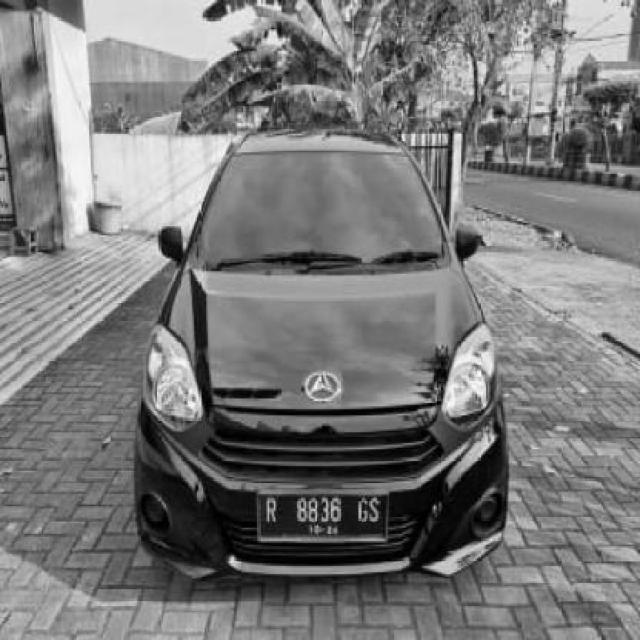3: (321, 497, 332, 528)
6: (331, 497, 346, 525)
8: (306, 496, 320, 526), (294, 496, 308, 523)
G: (354, 496, 369, 523)
R: (263, 494, 280, 526)
S: (371, 497, 384, 527)
